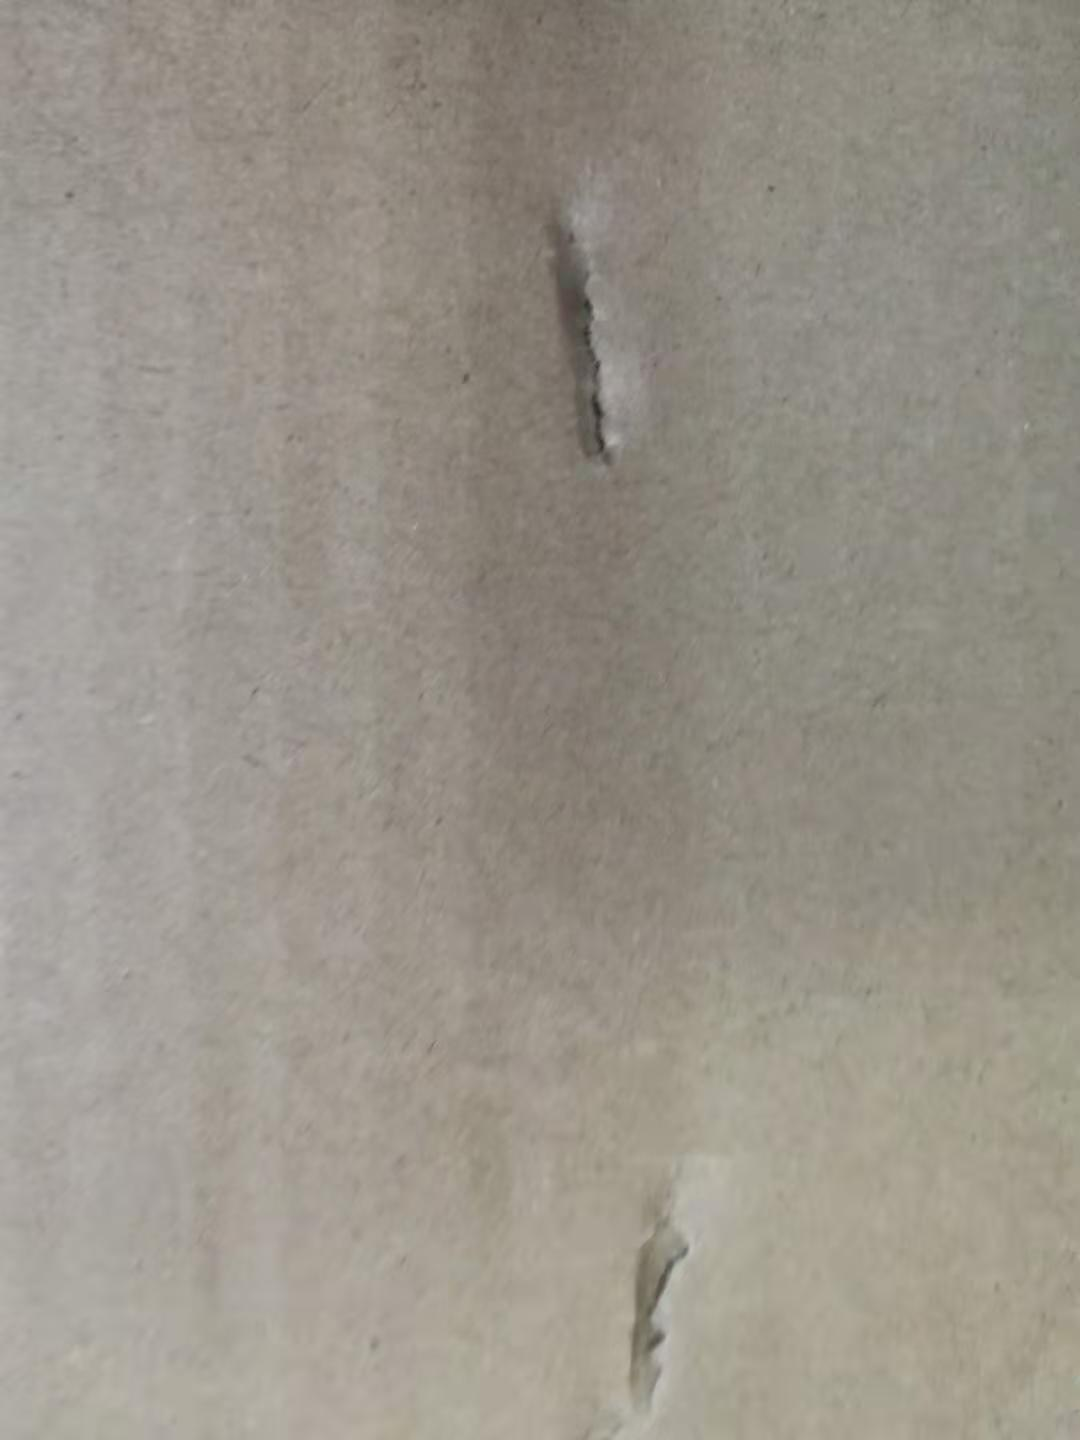defect: (479, 166, 682, 527), (557, 1158, 761, 1440)
